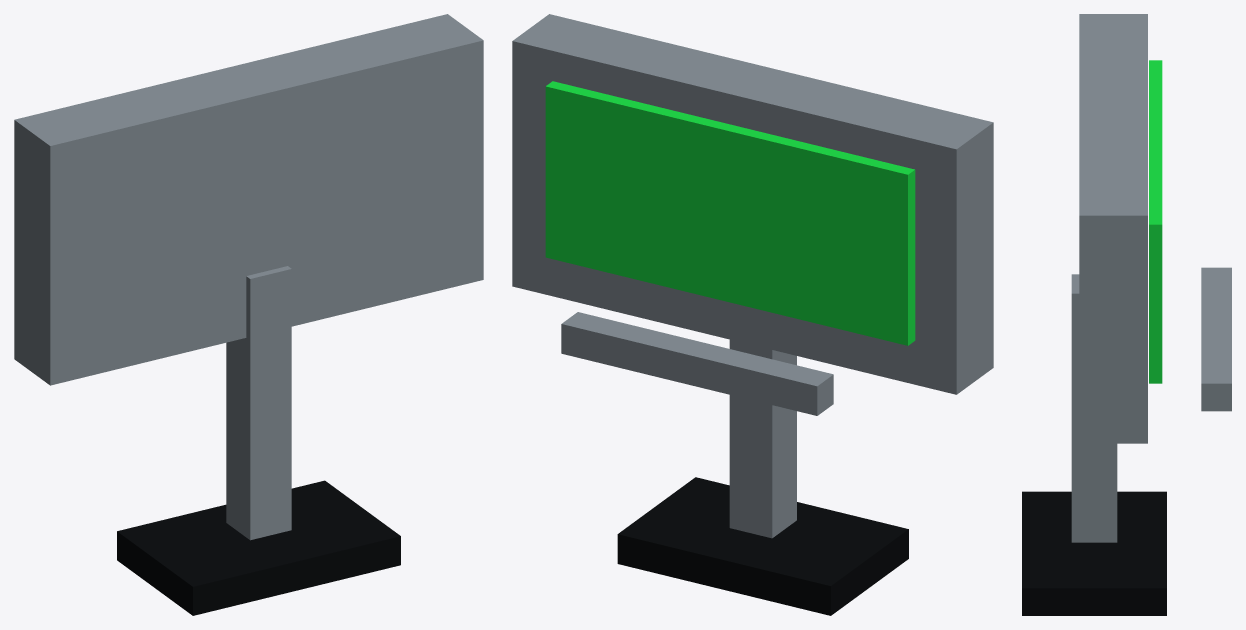
The model's file is ambulance_patient_monitor.obj.
3 renders of one model, left to right at view 1: azimuth 30°, elevation 25°; view 2: azimuth 150°, elevation 25°; view 3: azimuth 270°, elevation 25°, orthographic. The views are drawn at different scales.
Parts seen in each view (by area): view 1: ambulance_patient_monitor_ambulance_metal, ambulance_patient_monitor_ambulance_dark; view 2: ambulance_patient_monitor_ambulance_metal, ambulance_patient_monitor_ambulance_screen, ambulance_patient_monitor_ambulance_dark; view 3: ambulance_patient_monitor_ambulance_metal, ambulance_patient_monitor_ambulance_dark, ambulance_patient_monitor_ambulance_screen.
Part boxes in pixels (bbox=[...]): ambulance_patient_monitor_ambulance_metal: bbox=[14, 14, 483, 540]; ambulance_patient_monitor_ambulance_dark: bbox=[117, 480, 400, 615]; ambulance_patient_monitor_ambulance_metal: bbox=[512, 14, 993, 538]; ambulance_patient_monitor_ambulance_screen: bbox=[545, 81, 915, 345]; ambulance_patient_monitor_ambulance_dark: bbox=[617, 477, 908, 615]; ambulance_patient_monitor_ambulance_metal: bbox=[1071, 14, 1231, 542]; ambulance_patient_monitor_ambulance_dark: bbox=[1022, 491, 1166, 615]; ambulance_patient_monitor_ambulance_screen: bbox=[1149, 60, 1162, 383].
Bounding box in the file's own units: 1.25 × 1.31 × 0.55.
